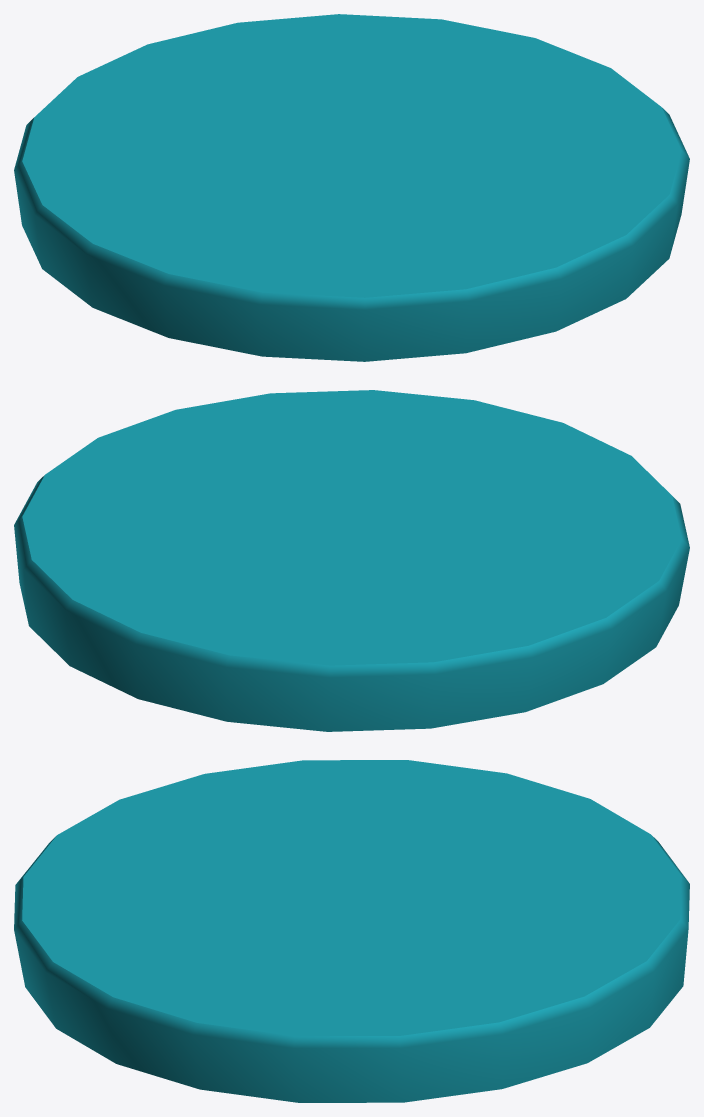
File: Screw_Base_B.fbx
3 views of the same model, one above another, from view 1: azimuth 30°, elevation 25°; view 2: azimuth 150°, elevation 25°; view 3: azimuth 270°, elevation 25° (orthographic).
Parts seen in each view (by area): view 1: Screw_Base_B; view 2: Screw_Base_B; view 3: Screw_Base_B.
Boxes of the visible parts, box(x1,y1,x2,y2) form: Screw_Base_B: box(14, 14, 689, 361); Screw_Base_B: box(14, 390, 689, 731); Screw_Base_B: box(14, 760, 689, 1102).
Bounding box in the file's own units: 1.1 × 0.1278 × 1.1.
